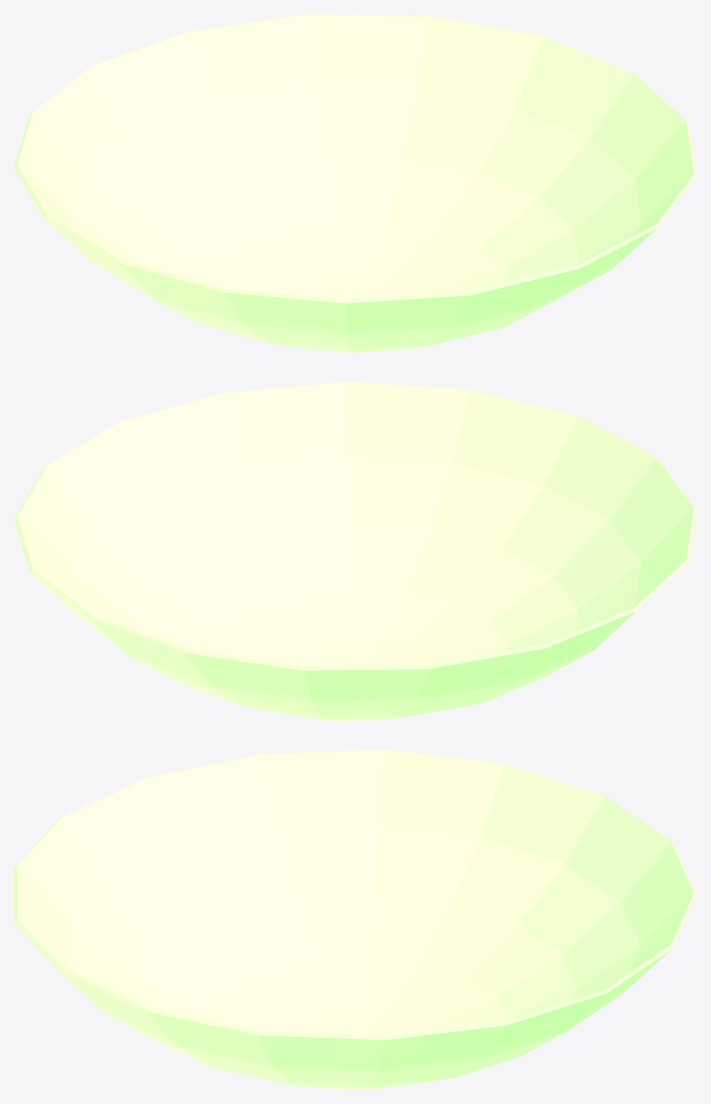
Rendered from uraniumplate.fbx.
3 renders of one model, top to bottom at view 1: azimuth 30°, elevation 25°; view 2: azimuth 150°, elevation 25°; view 3: azimuth 270°, elevation 25°, orthographic.
Visible parts, largest first — view 1: plate; view 2: plate; view 3: plate.
Part boxes in pixels (x1,y1,x2,y2): plate: (14,14,696,352); plate: (14,381,696,720); plate: (14,749,696,1089).
Size of the model in its own units: 318 by 80.93 by 317.
